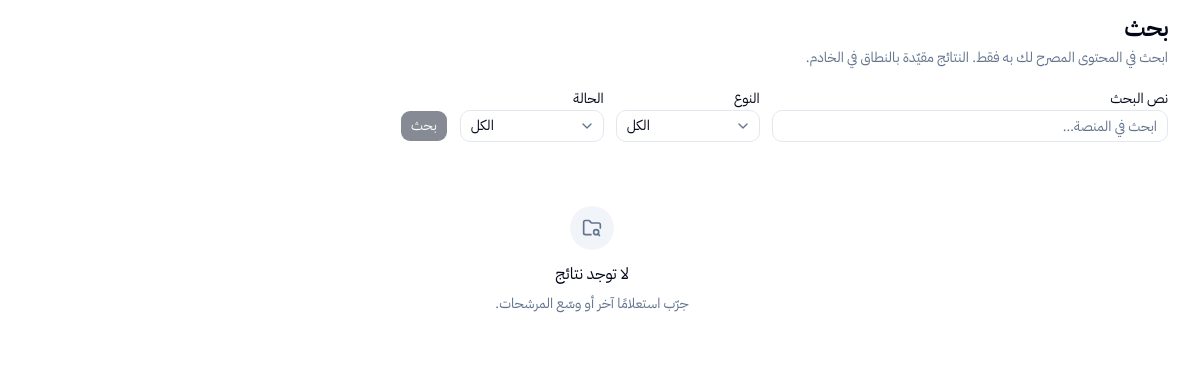
search screen › groups results by type with an icon and label
Type "أبجد" into the field labelled "نص البحث".
click(970, 126); type("أبجد")  # box [772, 110, 1168, 142]
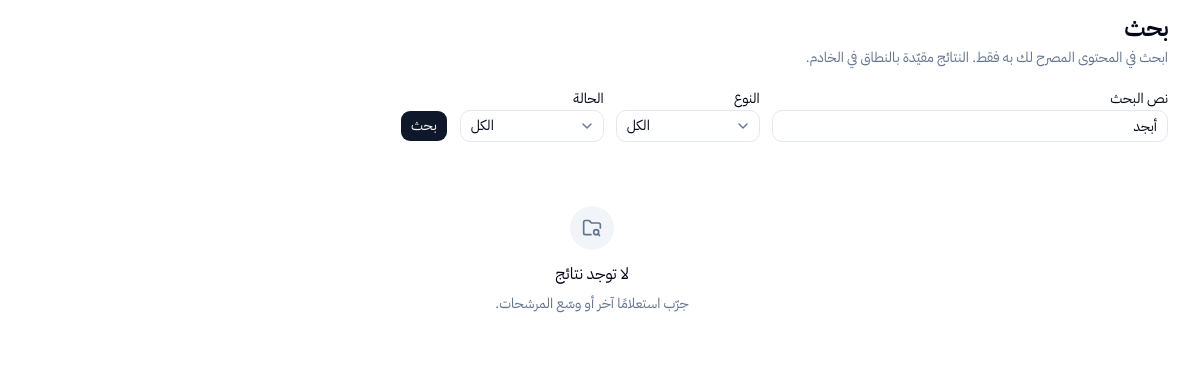
Click the button "بحث".
click(424, 126)  # box [400, 110, 448, 142]
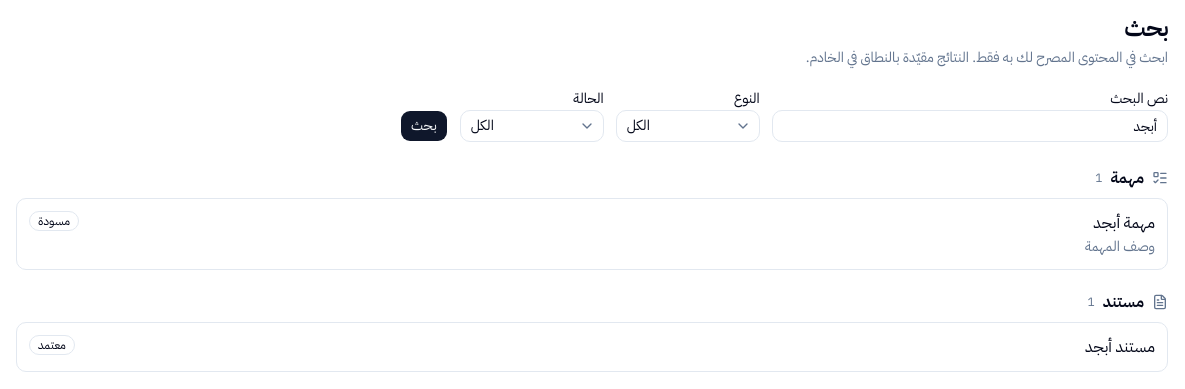
Check: the heading "مهمة 1" is shown, box [1095, 166, 1168, 190]
Check: the heading "مستند 1" is shown, box [1088, 290, 1168, 314]
Check: the link "مهمة أبجد" is shown, box [1085, 211, 1155, 235]
